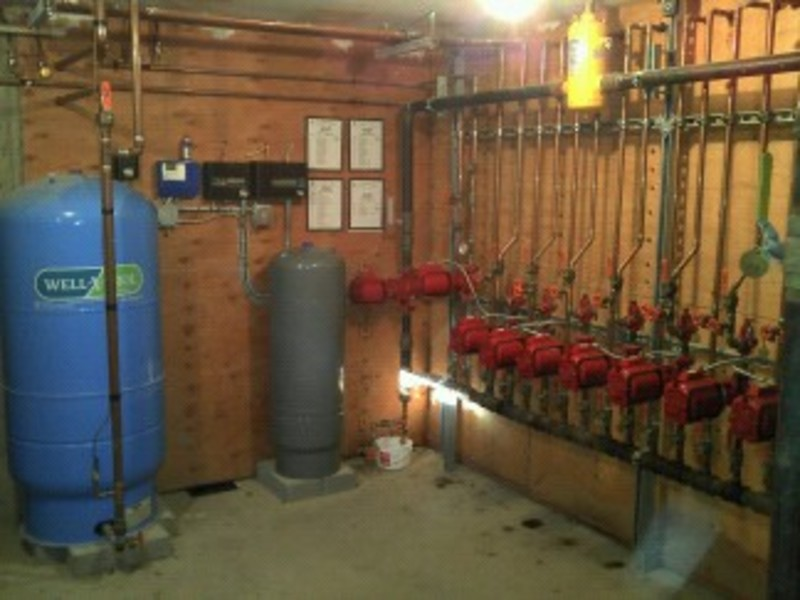valve: (659, 248, 691, 323), (90, 79, 121, 133), (713, 264, 740, 313), (604, 256, 627, 291)
